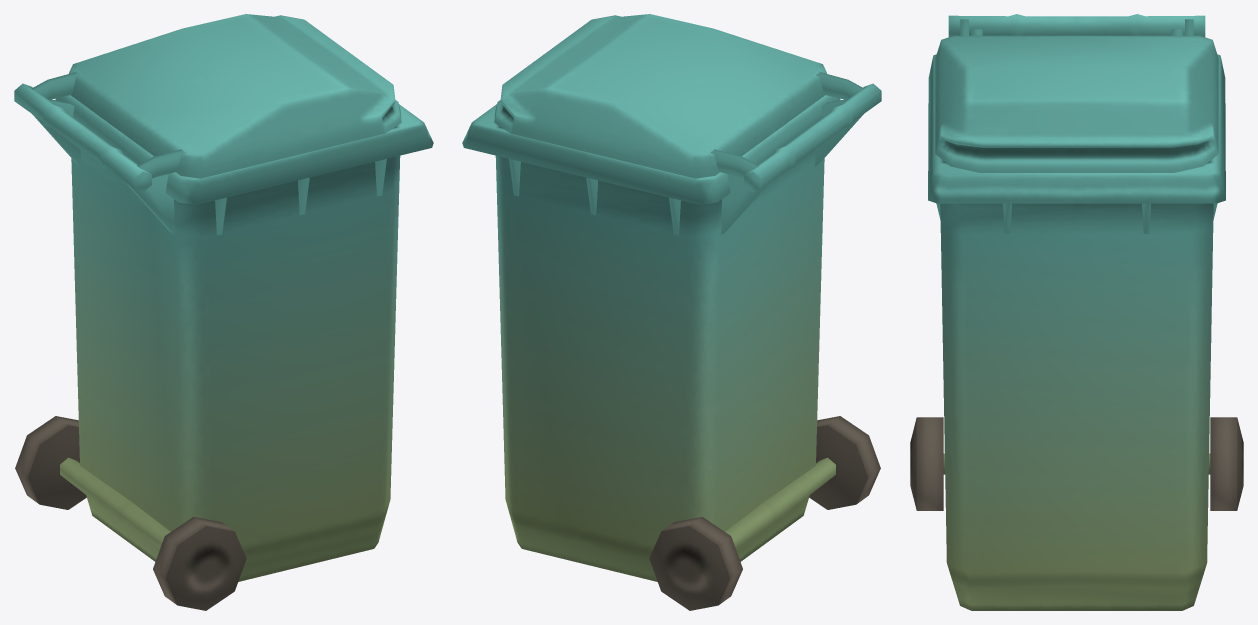
The model's file is ObstacleWheelyBin.prefab.glb.
3 renders of one model, left to right at view 1: azimuth 30°, elevation 25°; view 2: azimuth 150°, elevation 25°; view 3: azimuth 270°, elevation 25°, orthographic. The views are drawn at different scales.
Parts seen in each view (by area): view 1: WheelyBinBody, WheelyBinTop; view 2: WheelyBinBody, WheelyBinTop; view 3: WheelyBinBody, WheelyBinTop.
Part boxes in pixels (x1=…): WheelyBinBody: x1=15, y1=95, x2=433, y2=610; WheelyBinTop: x1=14, y1=14, x2=401, y2=192; WheelyBinBody: x1=462, y1=95, x2=880, y2=610; WheelyBinTop: x1=494, y1=14, x2=881, y2=192; WheelyBinBody: x1=910, y1=29, x2=1243, y2=610; WheelyBinTop: x1=935, y1=14, x2=1218, y2=172.
Bounding box in the file's own units: 1.42 × 2.14 × 1.31.
2 materials, 2 textured.
